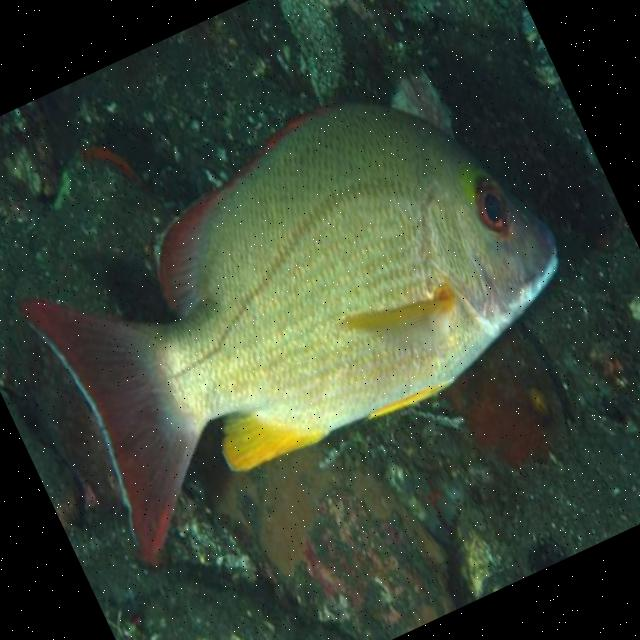ikan: (0, 35, 611, 574)
